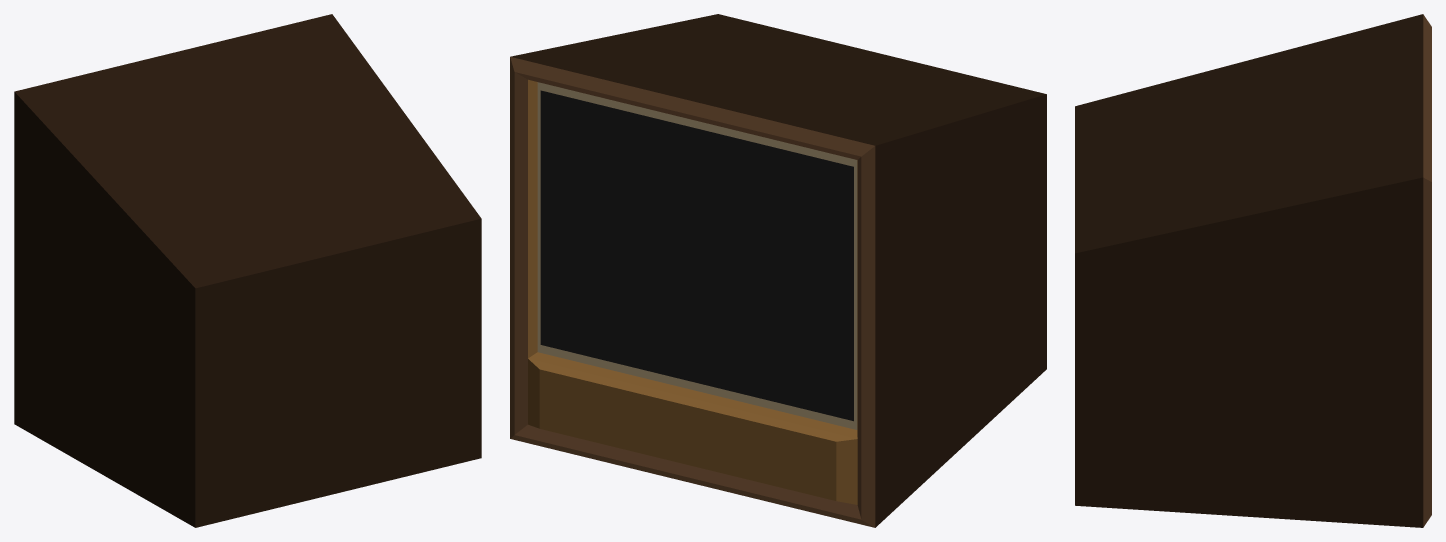
3 views of the same model, side by side, from view 1: azimuth 30°, elevation 25°; view 2: azimuth 150°, elevation 25°; view 3: azimuth 270°, elevation 25° (orthographic). The views are drawn at different scales.
Visible parts, largest first — view 1: TV; view 2: TV; view 3: TV.
Part boxes in pixels (left/top/right/bottom): TV: left=14, top=14, right=481, bottom=527; TV: left=510, top=14, right=1046, bottom=527; TV: left=1075, top=14, right=1431, bottom=527.
Bounding box in the file's own units: 100 × 100 × 92.25.
